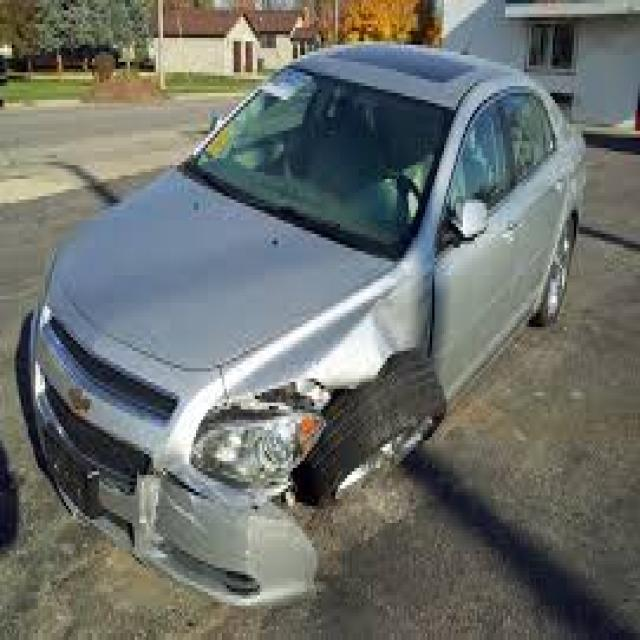moderate: (167, 349, 493, 592)
